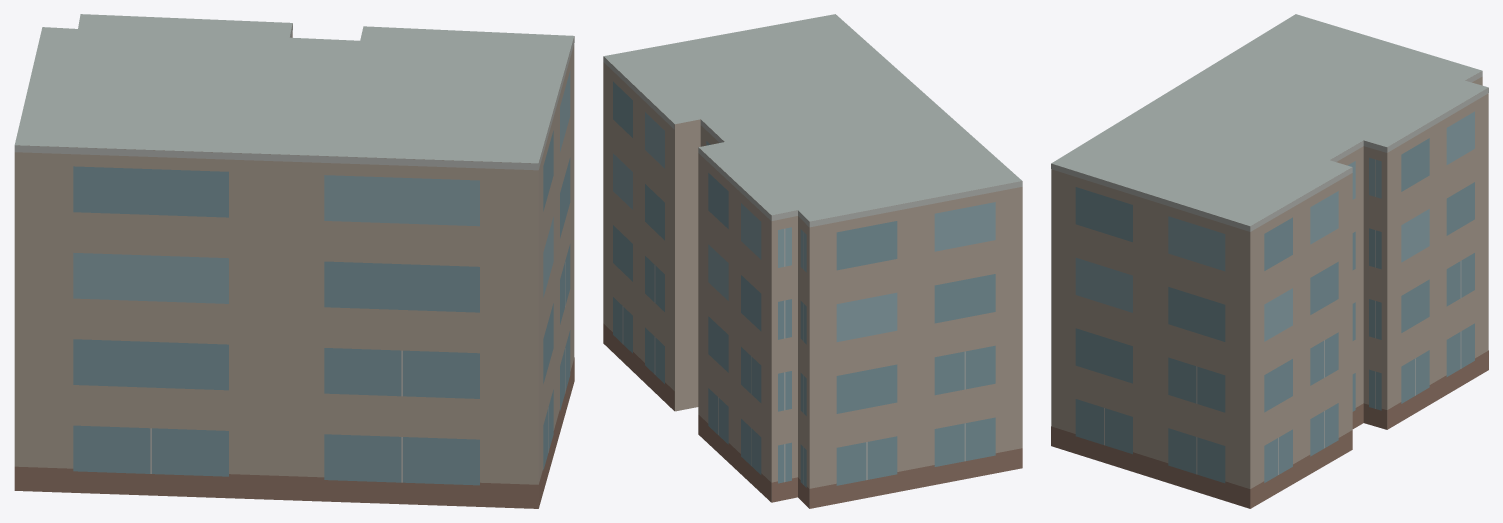
Rendered from survey-upis-32836410.glb.
3 views of the same model, side by side, from view 1: azimuth 30°, elevation 25°; view 2: azimuth 150°, elevation 25°; view 3: azimuth 270°, elevation 25° (orthographic). The views are drawn at different scales.
Parts seen in each view (by area): view 1: survey-upis-32836410.tmp; view 2: survey-upis-32836410.tmp; view 3: survey-upis-32836410.tmp.
Boxes of the visible parts, box(x1,y1,x2,y2) form: survey-upis-32836410.tmp: box(14, 14, 574, 508); survey-upis-32836410.tmp: box(603, 14, 1022, 508); survey-upis-32836410.tmp: box(1051, 14, 1488, 508).
Size of the model in its own units: 19.55 by 12.13 by 17.04.
